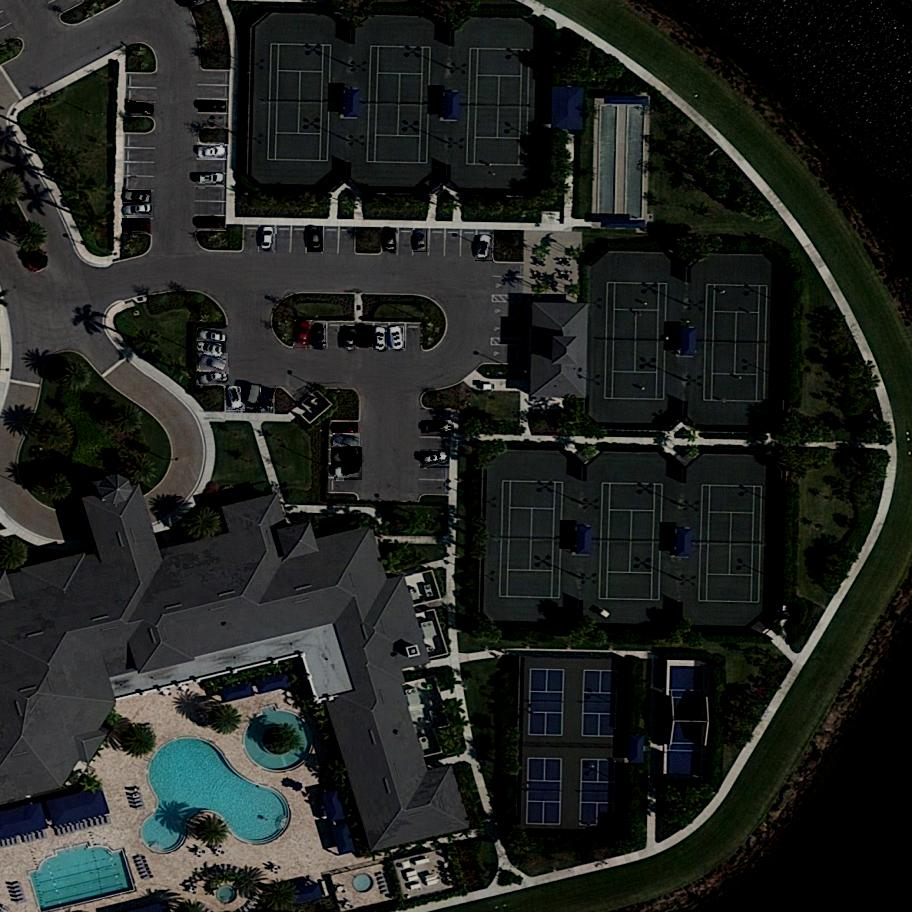small-vehicle: (198, 367, 230, 389), (330, 448, 363, 469), (199, 353, 230, 375), (294, 320, 315, 350), (197, 327, 230, 346), (420, 448, 451, 468), (197, 342, 227, 361), (243, 384, 262, 413), (197, 143, 227, 161), (333, 434, 361, 453), (421, 420, 454, 436), (226, 386, 245, 413), (122, 218, 152, 235), (334, 464, 363, 481), (340, 326, 358, 353), (475, 235, 493, 262), (126, 100, 154, 117), (196, 173, 225, 189), (123, 190, 152, 205), (260, 227, 277, 252), (259, 387, 276, 411), (390, 325, 406, 350), (308, 227, 324, 252), (332, 423, 359, 437), (196, 216, 225, 229), (356, 326, 373, 348), (123, 204, 153, 216), (311, 325, 326, 349), (374, 328, 388, 351), (384, 229, 398, 252), (414, 230, 426, 251), (198, 102, 226, 111)
